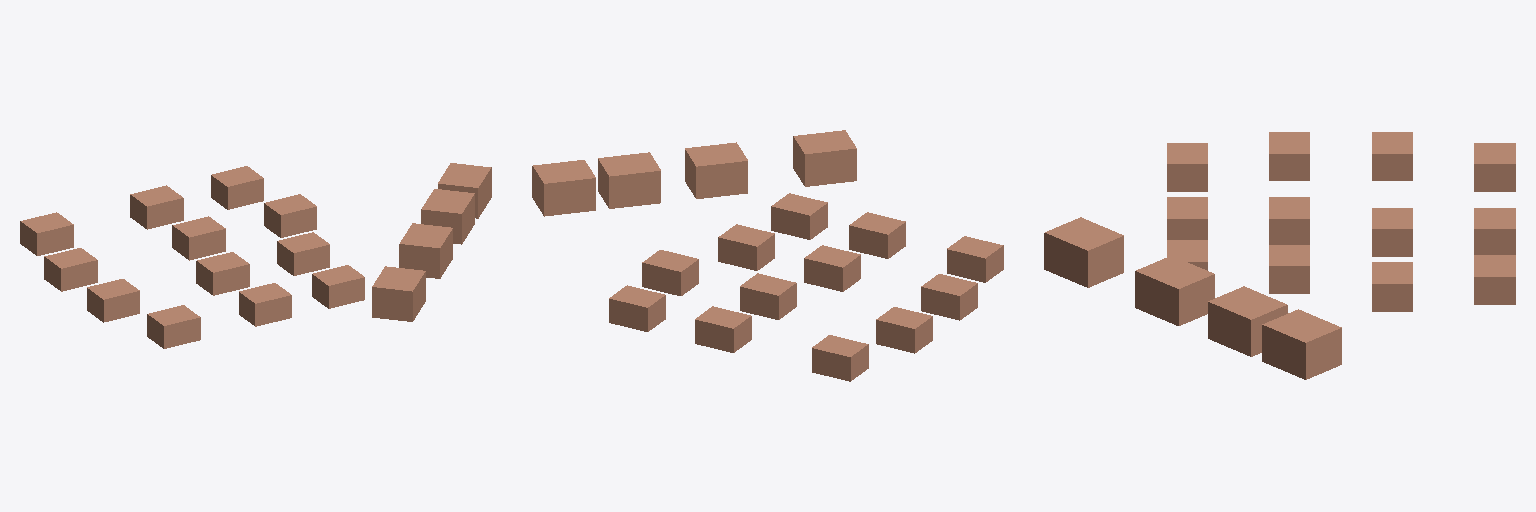
robot.urdf — inspire_hand_left:
<?xml version="1.0" ?>
<robot name="inspire_hand_left">
  <link name="base_link">
    <visual>
      <origin xyz="0 0 0" rpy="0 0 0"/>
      <geometry>
        <mesh filename="package://inspire_hand_description/meshes/left/full_hand.stl"/>
      </geometry>
    </visual>
    <collision>
      <origin xyz="0 0 0" rpy="0 0 0"/>
      <geometry>
        <box size="0.1 0.08 0.03"/>
      </geometry>
    </collision>
    <inertial>
      <mass value="0.2"/>
      <origin xyz="0 0 0" rpy="0 0 0"/>
      <inertia ixx="2e-07" ixy="0" ixz="0" iyy="2e-07" iyz="0" izz="2e-07"/>
    </inertial>
  </link>
  <link name="little_1_link">
    <visual>
      <origin xyz="0 0 0" rpy="0 0 0"/>
      <geometry>
        <box size="0.01 0.008 0.006"/>
      </geometry>
      <material name="finger_color">
        <color rgba="0.8 0.6 0.5 1.0"/>
      </material>
    </visual>
    <collision>
      <origin xyz="0 0 0" rpy="0 0 0"/>
      <geometry>
        <box size="0.01 0.008 0.006"/>
      </geometry>
    </collision>
    <inertial>
      <mass value="0.01"/>
      <origin xyz="0 0 0" rpy="0 0 0"/>
      <inertia ixx="1e-08" ixy="0" ixz="0" iyy="1e-08" iyz="0" izz="1e-08"/>
    </inertial>
  </link>
  <link name="little_2_link">
    <visual>
      <origin xyz="0 0 0" rpy="0 0 0"/>
      <geometry>
        <box size="0.01 0.008 0.006"/>
      </geometry>
      <material name="finger_color">
        <color rgba="0.8 0.6 0.5 1.0"/>
      </material>
    </visual>
    <collision>
      <origin xyz="0 0 0" rpy="0 0 0"/>
      <geometry>
        <box size="0.01 0.008 0.006"/>
      </geometry>
    </collision>
    <inertial>
      <mass value="0.01"/>
      <origin xyz="0 0 0" rpy="0 0 0"/>
      <inertia ixx="1e-08" ixy="0" ixz="0" iyy="1e-08" iyz="0" izz="1e-08"/>
    </inertial>
  </link>
  <link name="little_3_link">
    <visual>
      <origin xyz="0 0 0" rpy="0 0 0"/>
      <geometry>
        <box size="0.01 0.008 0.006"/>
      </geometry>
      <material name="finger_color">
        <color rgba="0.8 0.6 0.5 1.0"/>
      </material>
    </visual>
    <collision>
      <origin xyz="0 0 0" rpy="0 0 0"/>
      <geometry>
        <box size="0.01 0.008 0.006"/>
      </geometry>
    </collision>
    <inertial>
      <mass value="0.01"/>
      <origin xyz="0 0 0" rpy="0 0 0"/>
      <inertia ixx="1e-08" ixy="0" ixz="0" iyy="1e-08" iyz="0" izz="1e-08"/>
    </inertial>
  </link>
  <link name="ring_1_link">
    <visual>
      <origin xyz="0 0 0" rpy="0 0 0"/>
      <geometry>
        <box size="0.01 0.008 0.006"/>
      </geometry>
      <material name="finger_color">
        <color rgba="0.8 0.6 0.5 1.0"/>
      </material>
    </visual>
    <collision>
      <origin xyz="0 0 0" rpy="0 0 0"/>
      <geometry>
        <box size="0.01 0.008 0.006"/>
      </geometry>
    </collision>
    <inertial>
      <mass value="0.01"/>
      <origin xyz="0 0 0" rpy="0 0 0"/>
      <inertia ixx="1e-08" ixy="0" ixz="0" iyy="1e-08" iyz="0" izz="1e-08"/>
    </inertial>
  </link>
  <link name="ring_2_link">
    <visual>
      <origin xyz="0 0 0" rpy="0 0 0"/>
      <geometry>
        <box size="0.01 0.008 0.006"/>
      </geometry>
      <material name="finger_color">
        <color rgba="0.8 0.6 0.5 1.0"/>
      </material>
    </visual>
    <collision>
      <origin xyz="0 0 0" rpy="0 0 0"/>
      <geometry>
        <box size="0.01 0.008 0.006"/>
      </geometry>
    </collision>
    <inertial>
      <mass value="0.01"/>
      <origin xyz="0 0 0" rpy="0 0 0"/>
      <inertia ixx="1e-08" ixy="0" ixz="0" iyy="1e-08" iyz="0" izz="1e-08"/>
    </inertial>
  </link>
  <link name="ring_3_link">
    <visual>
      <origin xyz="0 0 0" rpy="0 0 0"/>
      <geometry>
        <box size="0.01 0.008 0.006"/>
      </geometry>
      <material name="finger_color">
        <color rgba="0.8 0.6 0.5 1.0"/>
      </material>
    </visual>
    <collision>
      <origin xyz="0 0 0" rpy="0 0 0"/>
      <geometry>
        <box size="0.01 0.008 0.006"/>
      </geometry>
    </collision>
    <inertial>
      <mass value="0.01"/>
      <origin xyz="0 0 0" rpy="0 0 0"/>
      <inertia ixx="1e-08" ixy="0" ixz="0" iyy="1e-08" iyz="0" izz="1e-08"/>
    </inertial>
  </link>
  <link name="middle_1_link">
    <visual>
      <origin xyz="0 0 0" rpy="0 0 0"/>
      <geometry>
        <box size="0.01 0.008 0.006"/>
      </geometry>
      <material name="finger_color">
        <color rgba="0.8 0.6 0.5 1.0"/>
      </material>
    </visual>
    <collision>
      <origin xyz="0 0 0" rpy="0 0 0"/>
      <geometry>
        <box size="0.01 0.008 0.006"/>
      </geometry>
    </collision>
    <inertial>
      <mass value="0.01"/>
      <origin xyz="0 0 0" rpy="0 0 0"/>
      <inertia ixx="1e-08" ixy="0" ixz="0" iyy="1e-08" iyz="0" izz="1e-08"/>
    </inertial>
  </link>
  <link name="middle_2_link">
    <visual>
      <origin xyz="0 0 0" rpy="0 0 0"/>
      <geometry>
        <box size="0.01 0.008 0.006"/>
      </geometry>
      <material name="finger_color">
        <color rgba="0.8 0.6 0.5 1.0"/>
      </material>
    </visual>
    <collision>
      <origin xyz="0 0 0" rpy="0 0 0"/>
      <geometry>
        <box size="0.01 0.008 0.006"/>
      </geometry>
    </collision>
    <inertial>
      <mass value="0.01"/>
      <origin xyz="0 0 0" rpy="0 0 0"/>
      <inertia ixx="1e-08" ixy="0" ixz="0" iyy="1e-08" iyz="0" izz="1e-08"/>
    </inertial>
  </link>
  <link name="middle_3_link">
    <visual>
      <origin xyz="0 0 0" rpy="0 0 0"/>
      <geometry>
        <box size="0.01 0.008 0.006"/>
      </geometry>
      <material name="finger_color">
        <color rgba="0.8 0.6 0.5 1.0"/>
      </material>
    </visual>
    <collision>
      <origin xyz="0 0 0" rpy="0 0 0"/>
      <geometry>
        <box size="0.01 0.008 0.006"/>
      </geometry>
    </collision>
    <inertial>
      <mass value="0.01"/>
      <origin xyz="0 0 0" rpy="0 0 0"/>
      <inertia ixx="1e-08" ixy="0" ixz="0" iyy="1e-08" iyz="0" izz="1e-08"/>
    </inertial>
  </link>
  <link name="index_1_link">
    <visual>
      <origin xyz="0 0 0" rpy="0 0 0"/>
      <geometry>
        <box size="0.01 0.008 0.006"/>
      </geometry>
      <material name="finger_color">
        <color rgba="0.8 0.6 0.5 1.0"/>
      </material>
    </visual>
    <collision>
      <origin xyz="0 0 0" rpy="0 0 0"/>
      <geometry>
        <box size="0.01 0.008 0.006"/>
      </geometry>
    </collision>
    <inertial>
      <mass value="0.01"/>
      <origin xyz="0 0 0" rpy="0 0 0"/>
      <inertia ixx="1e-08" ixy="0" ixz="0" iyy="1e-08" iyz="0" izz="1e-08"/>
    </inertial>
  </link>
  <link name="index_2_link">
    <visual>
      <origin xyz="0 0 0" rpy="0 0 0"/>
      <geometry>
        <box size="0.01 0.008 0.006"/>
      </geometry>
      <material name="finger_color">
        <color rgba="0.8 0.6 0.5 1.0"/>
      </material>
    </visual>
    <collision>
      <origin xyz="0 0 0" rpy="0 0 0"/>
      <geometry>
        <box size="0.01 0.008 0.006"/>
      </geometry>
    </collision>
    <inertial>
      <mass value="0.01"/>
      <origin xyz="0 0 0" rpy="0 0 0"/>
      <inertia ixx="1e-08" ixy="0" ixz="0" iyy="1e-08" iyz="0" izz="1e-08"/>
    </inertial>
  </link>
  <link name="index_3_link">
    <visual>
      <origin xyz="0 0 0" rpy="0 0 0"/>
      <geometry>
        <box size="0.01 0.008 0.006"/>
      </geometry>
      <material name="finger_color">
        <color rgba="0.8 0.6 0.5 1.0"/>
      </material>
    </visual>
    <collision>
      <origin xyz="0 0 0" rpy="0 0 0"/>
      <geometry>
        <box size="0.01 0.008 0.006"/>
      </geometry>
    </collision>
    <inertial>
      <mass value="0.01"/>
      <origin xyz="0 0 0" rpy="0 0 0"/>
      <inertia ixx="1e-08" ixy="0" ixz="0" iyy="1e-08" iyz="0" izz="1e-08"/>
    </inertial>
  </link>
  <link name="thumb_1_link">
    <visual>
      <origin xyz="0 0 0" rpy="0 0 0"/>
      <geometry>
        <box size="0.012 0.01 0.008"/>
      </geometry>
      <material name="finger_color">
        <color rgba="0.8 0.6 0.5 1.0"/>
      </material>
    </visual>
    <collision>
      <origin xyz="0 0 0" rpy="0 0 0"/>
      <geometry>
        <box size="0.012 0.01 0.008"/>
      </geometry>
    </collision>
    <inertial>
      <mass value="0.01"/>
      <origin xyz="0 0 0" rpy="0 0 0"/>
      <inertia ixx="1e-08" ixy="0" ixz="0" iyy="1e-08" iyz="0" izz="1e-08"/>
    </inertial>
  </link>
  <link name="thumb_2_link">
    <visual>
      <origin xyz="0 0 0" rpy="0 0 0"/>
      <geometry>
        <box size="0.012 0.01 0.008"/>
      </geometry>
      <material name="finger_color">
        <color rgba="0.8 0.6 0.5 1.0"/>
      </material>
    </visual>
    <collision>
      <origin xyz="0 0 0" rpy="0 0 0"/>
      <geometry>
        <box size="0.012 0.01 0.008"/>
      </geometry>
    </collision>
    <inertial>
      <mass value="0.01"/>
      <origin xyz="0 0 0" rpy="0 0 0"/>
      <inertia ixx="1e-08" ixy="0" ixz="0" iyy="1e-08" iyz="0" izz="1e-08"/>
    </inertial>
  </link>
  <link name="thumb_3_link">
    <visual>
      <origin xyz="0 0 0" rpy="0 0 0"/>
      <geometry>
        <box size="0.012 0.01 0.008"/>
      </geometry>
      <material name="finger_color">
        <color rgba="0.8 0.6 0.5 1.0"/>
      </material>
    </visual>
    <collision>
      <origin xyz="0 0 0" rpy="0 0 0"/>
      <geometry>
        <box size="0.012 0.01 0.008"/>
      </geometry>
    </collision>
    <inertial>
      <mass value="0.01"/>
      <origin xyz="0 0 0" rpy="0 0 0"/>
      <inertia ixx="1e-08" ixy="0" ixz="0" iyy="1e-08" iyz="0" izz="1e-08"/>
    </inertial>
  </link>
  <link name="thumb_4_link">
    <visual>
      <origin xyz="0 0 0" rpy="0 0 0"/>
      <geometry>
        <box size="0.012 0.01 0.008"/>
      </geometry>
      <material name="finger_color">
        <color rgba="0.8 0.6 0.5 1.0"/>
      </material>
    </visual>
    <collision>
      <origin xyz="0 0 0" rpy="0 0 0"/>
      <geometry>
        <box size="0.012 0.01 0.008"/>
      </geometry>
    </collision>
    <inertial>
      <mass value="0.01"/>
      <origin xyz="0 0 0" rpy="0 0 0"/>
      <inertia ixx="1e-08" ixy="0" ixz="0" iyy="1e-08" iyz="0" izz="1e-08"/>
    </inertial>
  </link>
  <joint name="little_1_joint" type="revolute">
    <parent link="base_link"/>
    <child link="little_1_link"/>
    <origin xyz="-0.08 -0.02 0.01" rpy="0 0 0"/>
    <axis xyz="0 1 0"/>
    <limit lower="0.0" upper="1.333" effort="1.0" velocity="1.0"/>
  </joint>
  <joint name="little_2_joint" type="revolute">
    <parent link="little_1_link"/>
    <child link="little_2_link"/>
    <origin xyz="0.025 0 0" rpy="0 0 0"/>
    <axis xyz="0 1 0"/>
    <limit lower="0.0" upper="1.4888276999999999" effort="1.0" velocity="1.0"/>
    <mimic joint="little_1_joint" multiplier="1.1169" offset="0.0"/>
  </joint>
  <joint name="little_3_joint" type="fixed">
    <parent link="little_2_link"/>
    <child link="little_3_link"/>
    <origin xyz="0.02 0 0" rpy="0 0 0"/>
  </joint>
  <joint name="ring_1_joint" type="revolute">
    <parent link="base_link"/>
    <child link="ring_1_link"/>
    <origin xyz="-0.085 0.0 0.01" rpy="0 0 0"/>
    <axis xyz="0 1 0"/>
    <limit lower="0.0" upper="1.333" effort="1.0" velocity="1.0"/>
  </joint>
  <joint name="ring_2_joint" type="revolute">
    <parent link="ring_1_link"/>
    <child link="ring_2_link"/>
    <origin xyz="0.03 0 0" rpy="0 0 0"/>
    <axis xyz="0 1 0"/>
    <limit lower="0.0" upper="1.4888276999999999" effort="1.0" velocity="1.0"/>
    <mimic joint="ring_1_joint" multiplier="1.1169" offset="0.0"/>
  </joint>
  <joint name="ring_3_joint" type="fixed">
    <parent link="ring_2_link"/>
    <child link="ring_3_link"/>
    <origin xyz="0.022 0 0" rpy="0 0 0"/>
  </joint>
  <joint name="middle_1_joint" type="revolute">
    <parent link="base_link"/>
    <child link="middle_1_link"/>
    <origin xyz="-0.085 0.02 0.01" rpy="0 0 0"/>
    <axis xyz="0 1 0"/>
    <limit lower="0.0" upper="1.333" effort="1.0" velocity="1.0"/>
  </joint>
  <joint name="middle_2_joint" type="revolute">
    <parent link="middle_1_link"/>
    <child link="middle_2_link"/>
    <origin xyz="0.035 0 0" rpy="0 0 0"/>
    <axis xyz="0 1 0"/>
    <limit lower="0.0" upper="1.4888276999999999" effort="1.0" velocity="1.0"/>
    <mimic joint="middle_1_joint" multiplier="1.1169" offset="0.0"/>
  </joint>
  <joint name="middle_3_joint" type="fixed">
    <parent link="middle_2_link"/>
    <child link="middle_3_link"/>
    <origin xyz="0.025 0 0" rpy="0 0 0"/>
  </joint>
  <joint name="index_1_joint" type="revolute">
    <parent link="base_link"/>
    <child link="index_1_link"/>
    <origin xyz="-0.08 0.04 0.01" rpy="0 0 0"/>
    <axis xyz="0 1 0"/>
    <limit lower="0.0" upper="1.333" effort="1.0" velocity="1.0"/>
  </joint>
  <joint name="index_2_joint" type="revolute">
    <parent link="index_1_link"/>
    <child link="index_2_link"/>
    <origin xyz="0.03 0 0" rpy="0 0 0"/>
    <axis xyz="0 1 0"/>
    <limit lower="0.0" upper="1.4888276999999999" effort="1.0" velocity="1.0"/>
    <mimic joint="index_1_joint" multiplier="1.1169" offset="0.0"/>
  </joint>
  <joint name="index_3_joint" type="fixed">
    <parent link="index_2_link"/>
    <child link="index_3_link"/>
    <origin xyz="0.022 0 0" rpy="0 0 0"/>
  </joint>
  <joint name="thumb_1_joint" type="revolute">
    <parent link="base_link"/>
    <child link="thumb_1_link"/>
    <origin xyz="-0.03 -0.04 0.015" rpy="0 0 0.7853981633974483"/>
    <axis xyz="0 0 1"/>
    <limit lower="0.0" upper="1.246" effort="1.0" velocity="1.0"/>
  </joint>
  <joint name="thumb_2_joint" type="revolute">
    <parent link="thumb_1_link"/>
    <child link="thumb_2_link"/>
    <origin xyz="0.025 0 0" rpy="0 0 0"/>
    <axis xyz="0 1 0"/>
    <limit lower="0.0" upper="0.48" effort="1.0" velocity="1.0"/>
  </joint>
  <joint name="thumb_3_joint" type="revolute">
    <parent link="thumb_2_link"/>
    <child link="thumb_3_link"/>
    <origin xyz="0.02 0 0" rpy="0 0 0"/>
    <axis xyz="0 1 0"/>
    <limit lower="0.0" upper="0.536112" effort="1.0" velocity="1.0"/>
    <mimic joint="thumb_2_joint" multiplier="1.1169" offset="0.0"/>
  </joint>
  <joint name="thumb_4_joint" type="fixed">
    <parent link="thumb_3_link"/>
    <child link="thumb_4_link"/>
    <origin xyz="0.015 0 0" rpy="0 0 0"/>
  </joint>
</robot>

--- Facts derived from the render (not from the file) ---
Views: 3 orthographic renders of the robot side by side, from view 1: azimuth 30°, elevation 25°; view 2: azimuth 150°, elevation 25°; view 3: azimuth 270°, elevation 25°.
Model inspire_hand_left with 17 links and 16 joints (11 revolute, 5 fixed), rooted at base_link, posed every joint at zero.
Visible links, largest first — view 1: thumb_1_link, thumb_2_link, thumb_3_link, little_1_link, index_2_link, ring_2_link, middle_1_link, middle_2_link, index_1_link, ring_3_link, middle_3_link, little_2_link (+4 smaller); view 2: thumb_1_link, thumb_4_link, thumb_2_link, thumb_3_link, little_2_link, little_3_link, ring_2_link, little_1_link, ring_1_link, ring_3_link, middle_1_link, middle_3_link (+4 smaller); view 3: thumb_1_link, thumb_4_link, thumb_2_link, thumb_3_link, index_3_link, index_1_link, middle_3_link, little_1_link, ring_1_link, ring_3_link, middle_1_link, middle_2_link (+4 smaller).
Boxes of the visible links, bbox=[...] form: thumb_1_link: bbox=[372, 266, 425, 321]; thumb_2_link: bbox=[399, 223, 452, 278]; thumb_3_link: bbox=[421, 189, 474, 244]; little_1_link: bbox=[147, 305, 200, 348]; index_2_link: bbox=[130, 185, 183, 229]; ring_2_link: bbox=[196, 252, 249, 295]; middle_1_link: bbox=[44, 248, 97, 291]; middle_2_link: bbox=[172, 216, 225, 260]; index_1_link: bbox=[20, 212, 73, 255]; ring_3_link: bbox=[277, 232, 329, 275]; middle_3_link: bbox=[264, 194, 316, 237]; little_2_link: bbox=[239, 283, 291, 326]; thumb_1_link: bbox=[793, 130, 856, 186]; thumb_4_link: bbox=[532, 160, 595, 216]; thumb_2_link: bbox=[685, 142, 747, 198]; thumb_3_link: bbox=[598, 152, 660, 208]; little_2_link: bbox=[849, 212, 905, 258]; little_3_link: bbox=[771, 193, 827, 239]; ring_2_link: bbox=[804, 245, 860, 291]; little_1_link: bbox=[947, 236, 1003, 282]; ring_1_link: bbox=[921, 274, 977, 320]; ring_3_link: bbox=[718, 224, 774, 270]; middle_1_link: bbox=[876, 307, 932, 353]; middle_3_link: bbox=[642, 250, 698, 295]; thumb_1_link: bbox=[1044, 217, 1123, 287]; thumb_4_link: bbox=[1262, 309, 1341, 379]; thumb_2_link: bbox=[1135, 256, 1214, 325]; thumb_3_link: bbox=[1208, 286, 1287, 356]; index_3_link: bbox=[1474, 255, 1515, 304]; index_1_link: bbox=[1474, 143, 1515, 191]; middle_3_link: bbox=[1372, 262, 1412, 311]; little_1_link: bbox=[1167, 143, 1207, 191]; ring_1_link: bbox=[1269, 132, 1309, 180]; ring_3_link: bbox=[1269, 245, 1309, 293]; middle_1_link: bbox=[1372, 132, 1412, 180]; middle_2_link: bbox=[1372, 208, 1412, 256].
Size in the robot's own frame: 0.1102 by 0.0918 by 0.012 metres.
Meshes: 1 distinct files referenced, 0 mesh visuals loaded (none loaded); not drawn: 1 (reference not matched to a file when rendering).